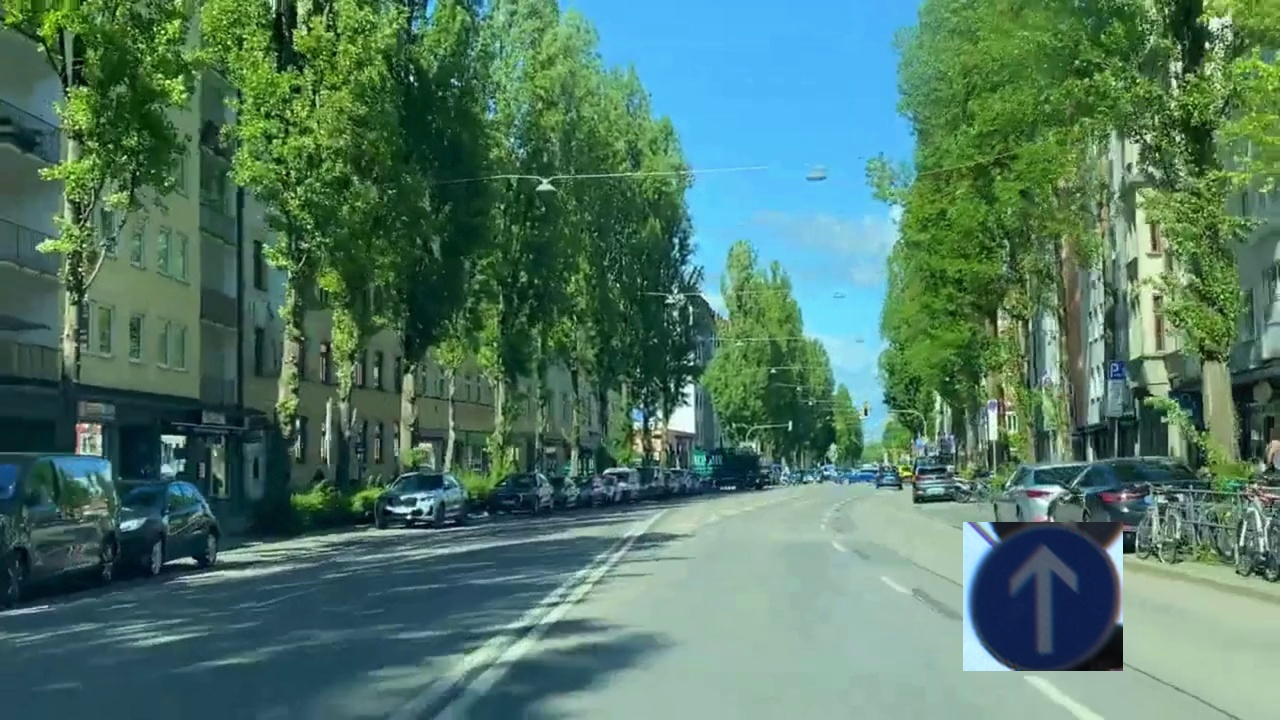Ahead only: (963, 522, 1123, 671)
